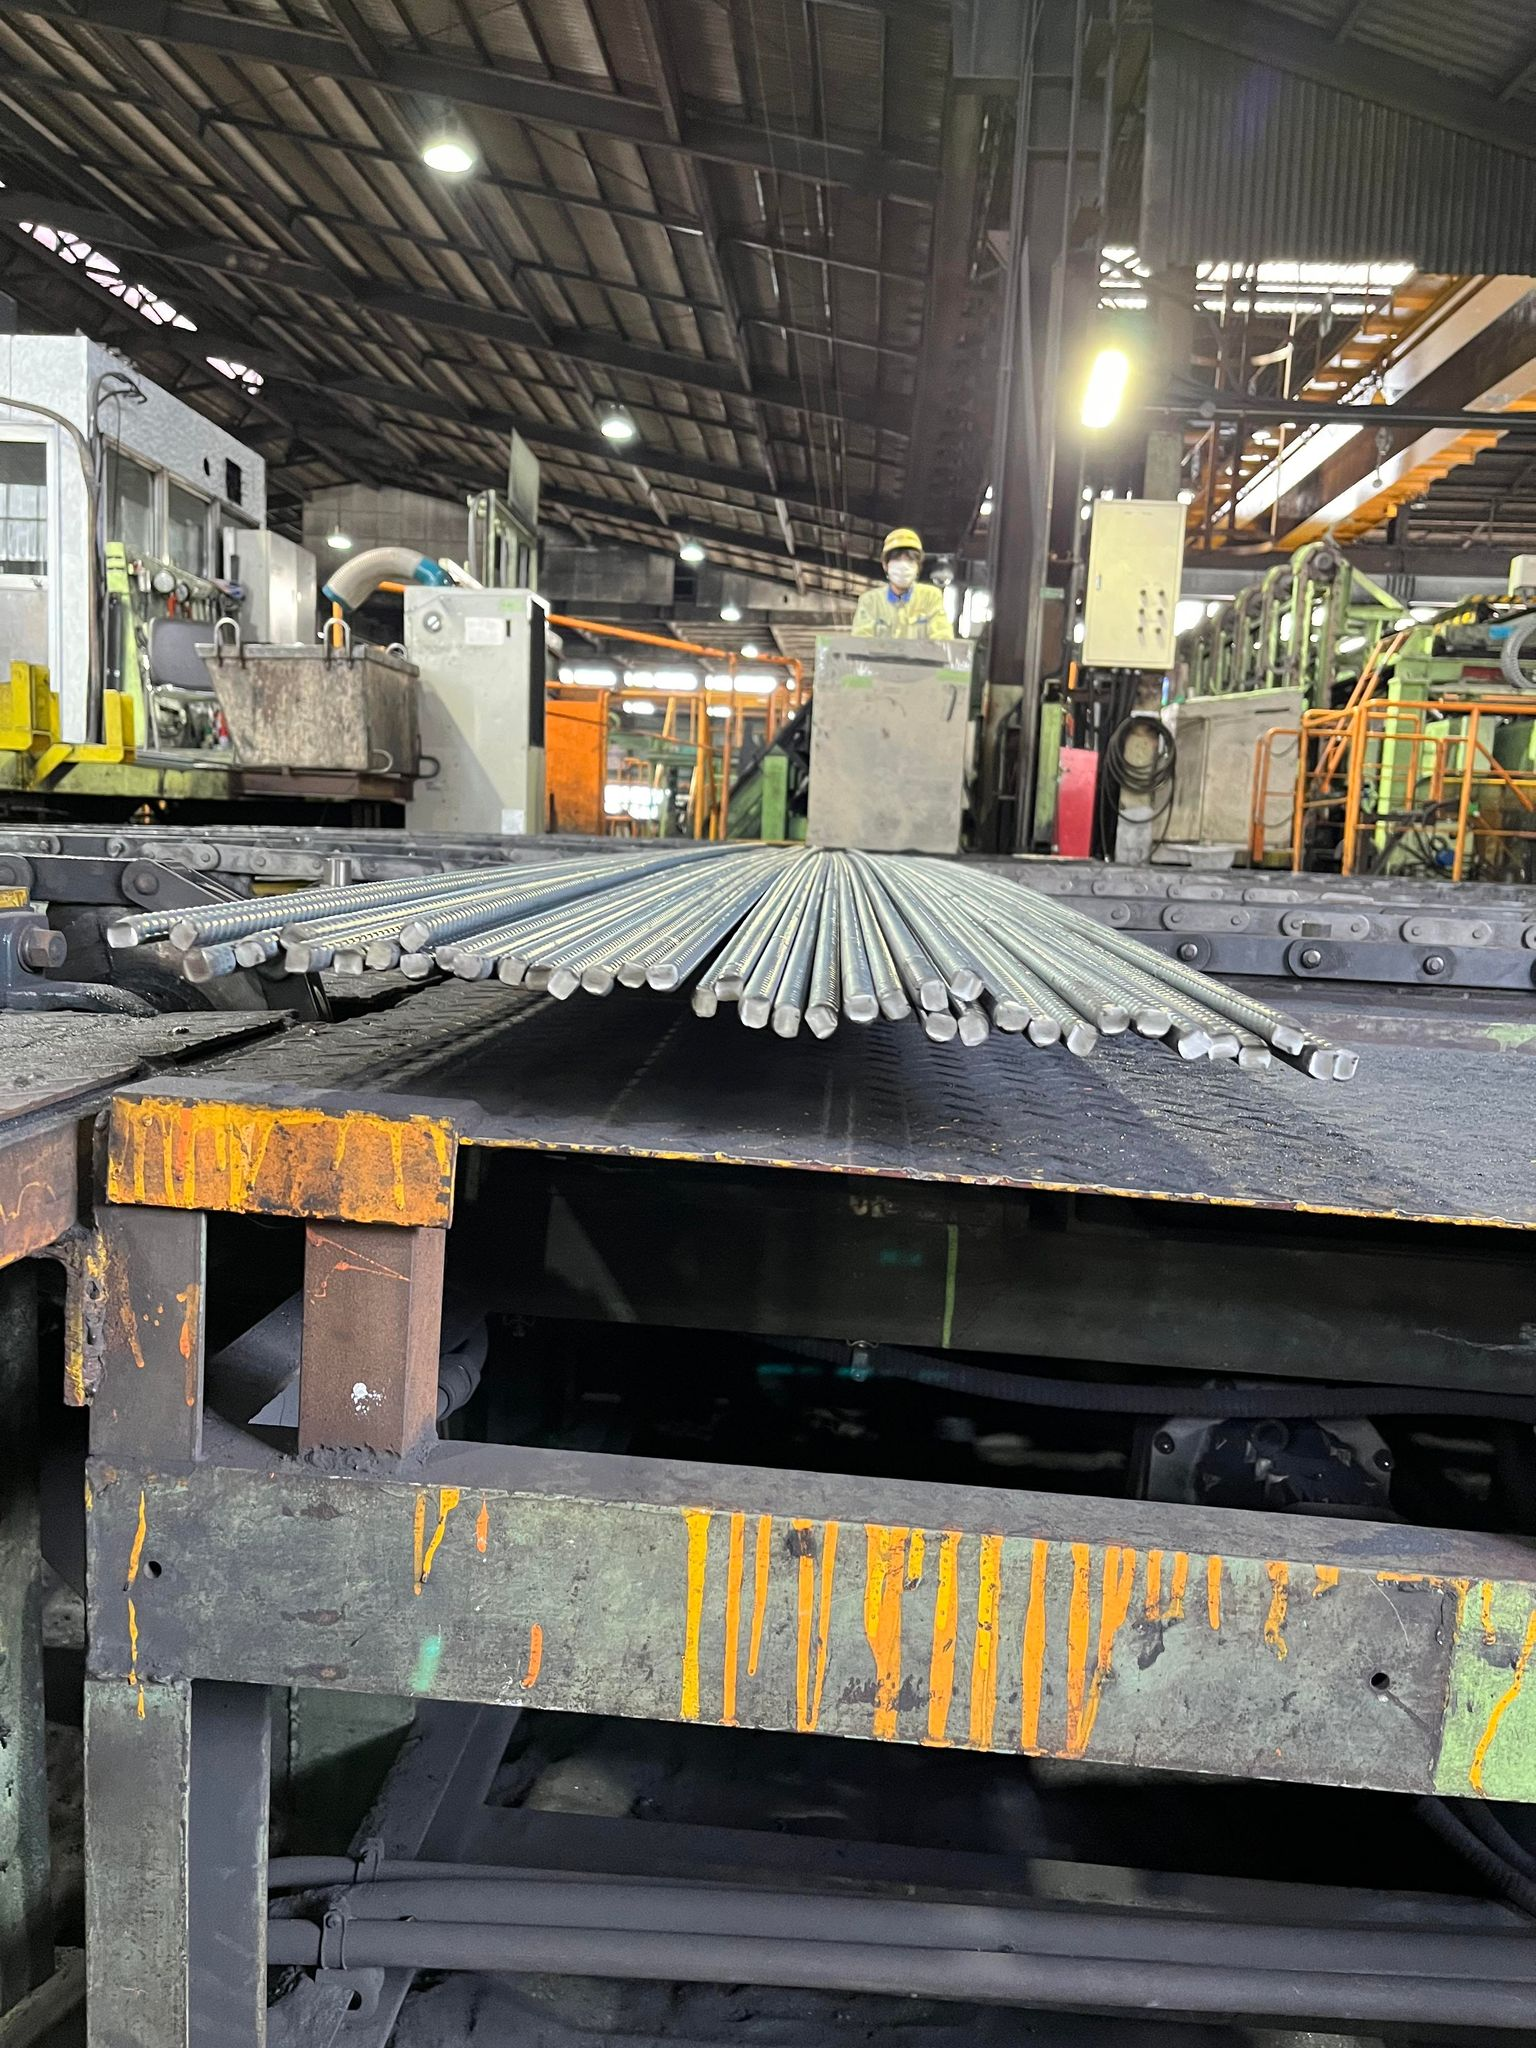rod: (992, 998, 1031, 1034), (802, 1003, 839, 1039), (841, 993, 881, 1026), (736, 993, 771, 1029), (1270, 1022, 1307, 1056), (395, 918, 431, 951), (916, 977, 950, 1013), (950, 968, 984, 1003), (1026, 1014, 1062, 1048), (1065, 1021, 1099, 1056), (1134, 1008, 1173, 1039), (545, 968, 579, 1001), (105, 918, 140, 950), (770, 1003, 802, 1039), (958, 1013, 991, 1048), (921, 1013, 958, 1043), (1238, 1042, 1275, 1072), (582, 964, 615, 998), (181, 948, 211, 984), (1175, 1030, 1212, 1059), (1097, 1003, 1129, 1035), (1208, 1029, 1241, 1061), (1305, 1047, 1338, 1079), (331, 945, 365, 976), (878, 990, 912, 1021), (452, 951, 487, 980), (495, 951, 524, 987), (645, 963, 681, 992), (1334, 1043, 1362, 1080), (232, 940, 268, 968), (691, 984, 718, 1019), (168, 921, 198, 951), (366, 939, 395, 971), (399, 951, 431, 980), (715, 971, 744, 1003), (282, 943, 311, 974), (432, 943, 465, 971), (524, 963, 552, 992), (620, 959, 647, 989), (279, 924, 305, 948)
